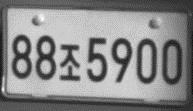0: (136, 37, 157, 85), (162, 39, 183, 85)
5: (87, 37, 108, 82)
8: (10, 34, 33, 79), (35, 35, 57, 81)
9: (110, 37, 132, 84)
조: (59, 43, 83, 82)
